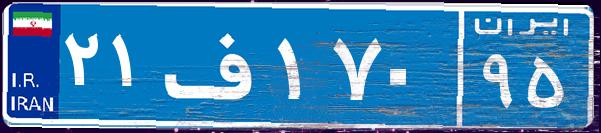0: (385, 28, 445, 110)
1: (273, 28, 330, 110), (110, 28, 158, 105)
2: (57, 26, 110, 107)
5: (525, 38, 570, 115)
7: (330, 28, 385, 110)
9: (475, 38, 525, 113)
ف: (158, 15, 273, 115)
